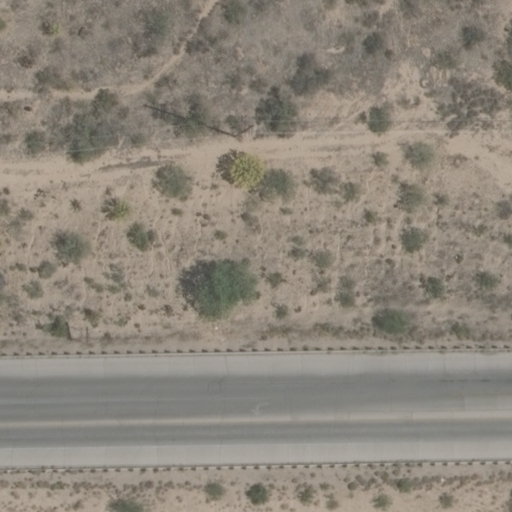DT: (229, 112, 260, 146)
